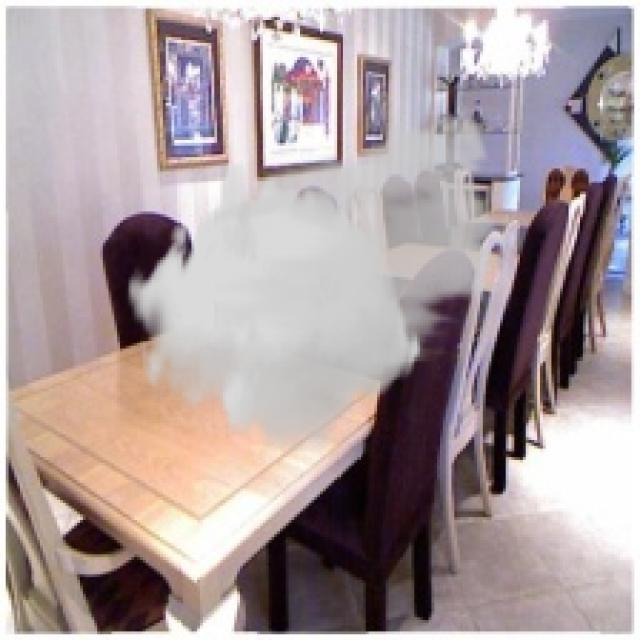smoke: (126, 97, 511, 452)
